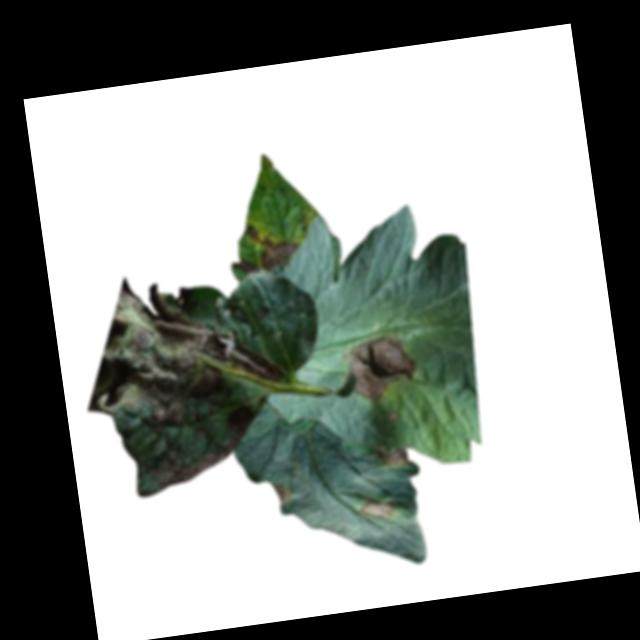Early_blight: (73, 258, 298, 504), (341, 330, 418, 405), (243, 216, 303, 275), (371, 445, 410, 474), (360, 500, 396, 524), (267, 479, 294, 509), (232, 256, 259, 280)
